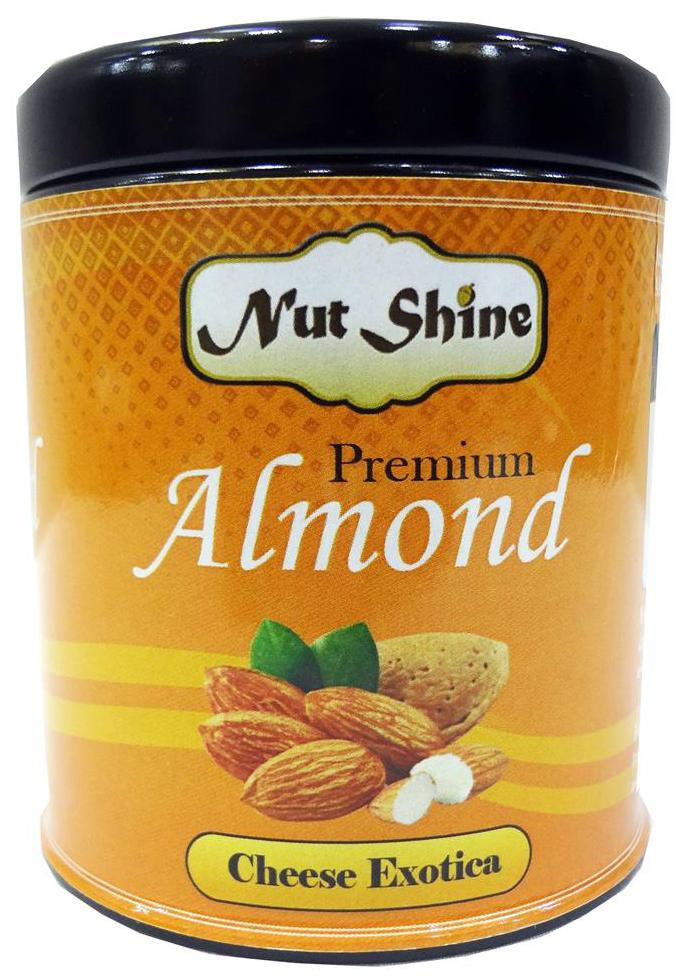JAR: (10, 14, 680, 975)
